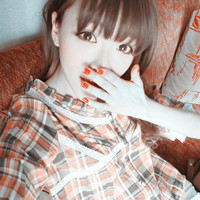face: (60, 1, 142, 100)
